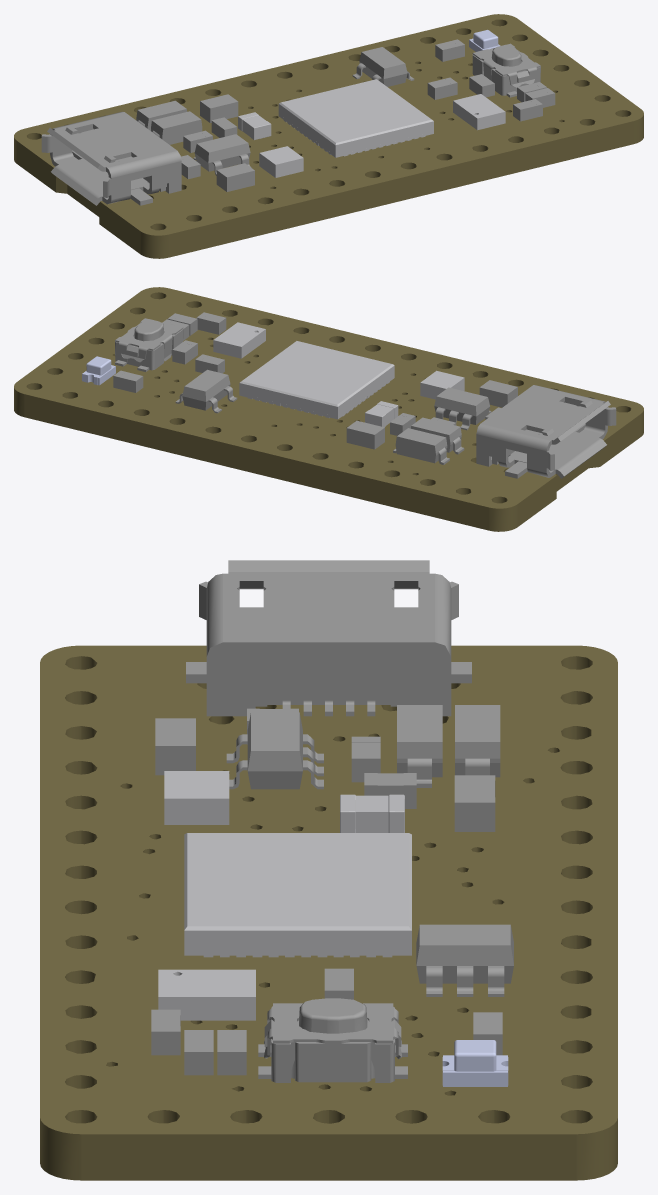
The model's file is ada-3800.glb.
3 renders of one model, top to bottom at view 1: azimuth 30°, elevation 25°; view 2: azimuth 150°, elevation 25°; view 3: azimuth 270°, elevation 25°, orthographic. The views are drawn at different scales.
Parts seen in each view (by area): view 1: 0.16666666666666666_0.16666666666666666_0.08333333333333333_, 0.3333333333333333_0.3333333333333333_0.3333333333333333_0, 0.5833333333333334_0.5833333333333334_0.5833333333333334_0.8, 0.5833333333333334_0.6666666666666666_0.8333333333333334_0; view 2: 0.16666666666666666_0.16666666666666666_0.08333333333333333_, 0.3333333333333333_0.3333333333333333_0.3333333333333333_0, 0.5833333333333334_0.5833333333333334_0.5833333333333334_0.8, 0.5833333333333334_0.6666666666666666_0.8333333333333334_0; view 3: 0.16666666666666666_0.16666666666666666_0.08333333333333333_, 0.3333333333333333_0.3333333333333333_0.3333333333333333_0, 0.5833333333333334_0.5833333333333334_0.5833333333333334_0.8, 0.5833333333333334_0.6666666666666666_0.8333333333333334_0.
Part boxes in pixels (box(x1,y1,x2,y2)): 0.16666666666666666_0.16666666666666666_0.08333333333333333_: box(14, 14, 643, 258); 0.3333333333333333_0.3333333333333333_0.3333333333333333_0: box(41, 39, 555, 205); 0.5833333333333334_0.5833333333333334_0.5833333333333334_0.8: box(238, 79, 505, 177); 0.5833333333333334_0.6666666666666666_0.8333333333333334_0: box(469, 29, 500, 51); 0.16666666666666666_0.16666666666666666_0.08333333333333333_: box(14, 287, 643, 531); 0.3333333333333333_0.3333333333333333_0.3333333333333333_0: box(113, 312, 616, 478); 0.5833333333333334_0.5833333333333334_0.5833333333333334_0.8: box(213, 322, 464, 427); 0.5833333333333334_0.6666666666666666_0.8333333333333334_0: box(82, 356, 115, 385); 0.16666666666666666_0.16666666666666666_0.08333333333333333_: box(40, 645, 617, 1180); 0.3333333333333333_0.3333333333333333_0.3333333333333333_0: box(151, 560, 513, 1082); 0.5833333333333334_0.5833333333333334_0.5833333333333334_0.8: box(158, 771, 411, 1020); 0.5833333333333334_0.6666666666666666_0.8333333333333334_0: box(442, 1040, 508, 1086).
Bounding box in the file's own units: 3.6 × 0.4341 × 1.78.
